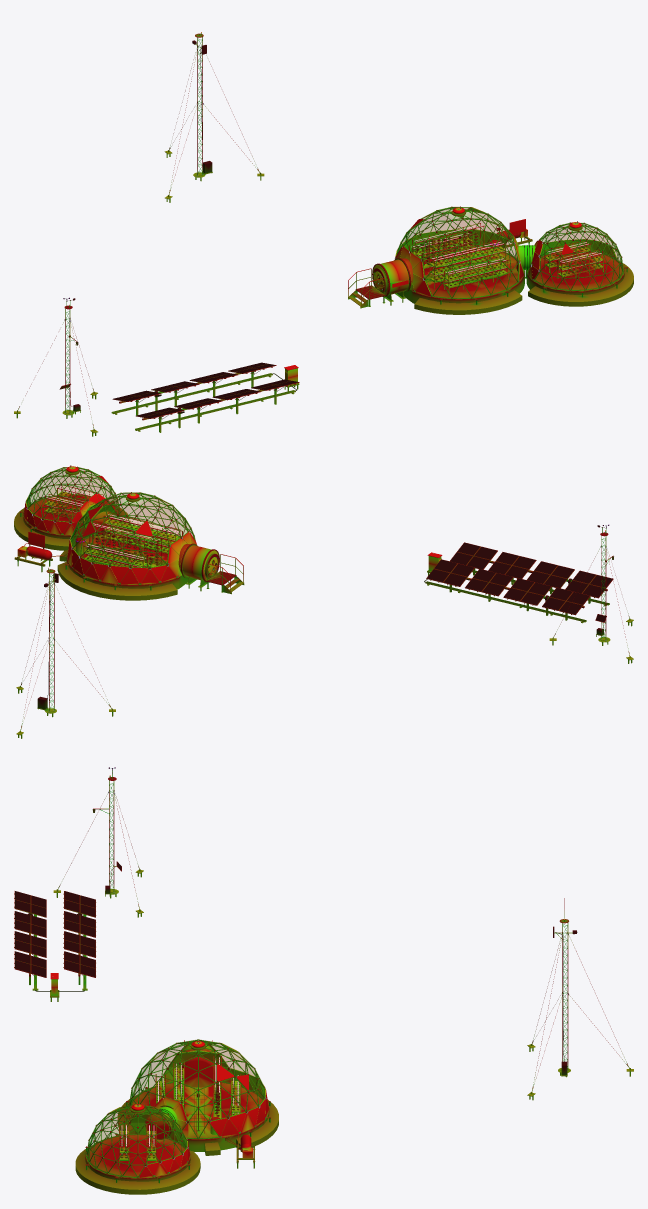
The model's file is home-yard-lite-v1.glb.
3 views of the same model, one above another, from view 1: azimuth 30°, elevation 25°; view 2: azimuth 150°, elevation 25°; view 3: azimuth 270°, elevation 25° (orthographic). The views are drawn at different scales.
Parts seen in each view (by area): view 1: garden_glass, garden_paint, garden_frame, garden_steel, garden_regolith, power_frame, power_solar, garden_vegetation, mast_relay_frame, garden_grow, mast_met_frame; view 2: garden_glass, garden_paint, garden_frame, power_solar, garden_steel, garden_regolith, power_frame, garden_vegetation, mast_relay_frame, mast_met_frame, garden_grow, garden_foil; view 3: garden_glass, garden_paint, garden_frame, power_solar, garden_regolith, garden_steel, power_frame, mast_relay_frame, mast_met_frame.
Part boxes in pixels (x1=…): garden_glass: x1=396, y1=207, x2=623, y2=298; garden_paint: x1=374, y1=207, x2=621, y2=298; garden_frame: x1=348, y1=206, x2=627, y2=308; garden_steel: x1=373, y1=223, x2=603, y2=295; garden_regolith: x1=414, y1=263, x2=633, y2=314; power_frame: x1=111, y1=364, x2=299, y2=432; power_solar: x1=113, y1=362, x2=298, y2=418; garden_vegetation: x1=413, y1=231, x2=600, y2=285; mast_relay_frame: x1=164, y1=32, x2=264, y2=202; garden_grow: x1=411, y1=224, x2=601, y2=281; mast_met_frame: x1=14, y1=301, x2=97, y2=436; garden_glass: x1=26, y1=467, x2=195, y2=567; garden_paint: x1=17, y1=466, x2=218, y2=584; garden_frame: x1=14, y1=465, x2=244, y2=594; power_solar: x1=427, y1=542, x2=612, y2=614; garden_steel: x1=44, y1=485, x2=218, y2=580; garden_regolith: x1=14, y1=508, x2=177, y2=600; power_frame: x1=425, y1=542, x2=613, y2=623; garden_vegetation: x1=47, y1=491, x2=176, y2=568; mast_relay_frame: x1=16, y1=568, x2=115, y2=738; mast_met_frame: x1=549, y1=528, x2=633, y2=663; garden_grow: x1=46, y1=486, x2=180, y2=567; garden_foil: x1=26, y1=476, x2=152, y2=560; garden_glass: x1=86, y1=1040, x2=264, y2=1176; garden_paint: x1=89, y1=1041, x2=268, y2=1177; garden_frame: x1=85, y1=1039, x2=270, y2=1183; power_solar: x1=15, y1=891, x2=95, y2=977; garden_regolith: x1=75, y1=1095, x2=278, y2=1194; garden_steel: x1=119, y1=1044, x2=241, y2=1165; power_frame: x1=14, y1=891, x2=96, y2=1001; mast_relay_frame: x1=527, y1=898, x2=633, y2=1100; mast_met_frame: x1=53, y1=770, x2=143, y2=917.
Size of the model in its own units: 41.36 by 10.7 by 33.88.
